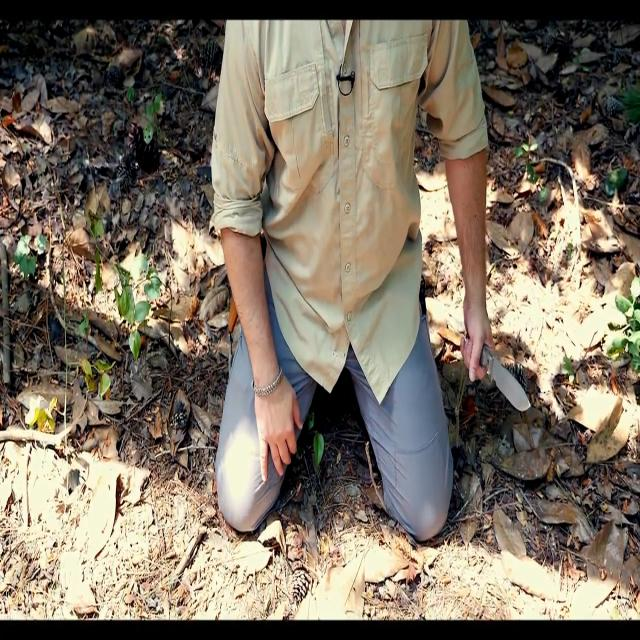knife: (480, 344, 536, 414)
